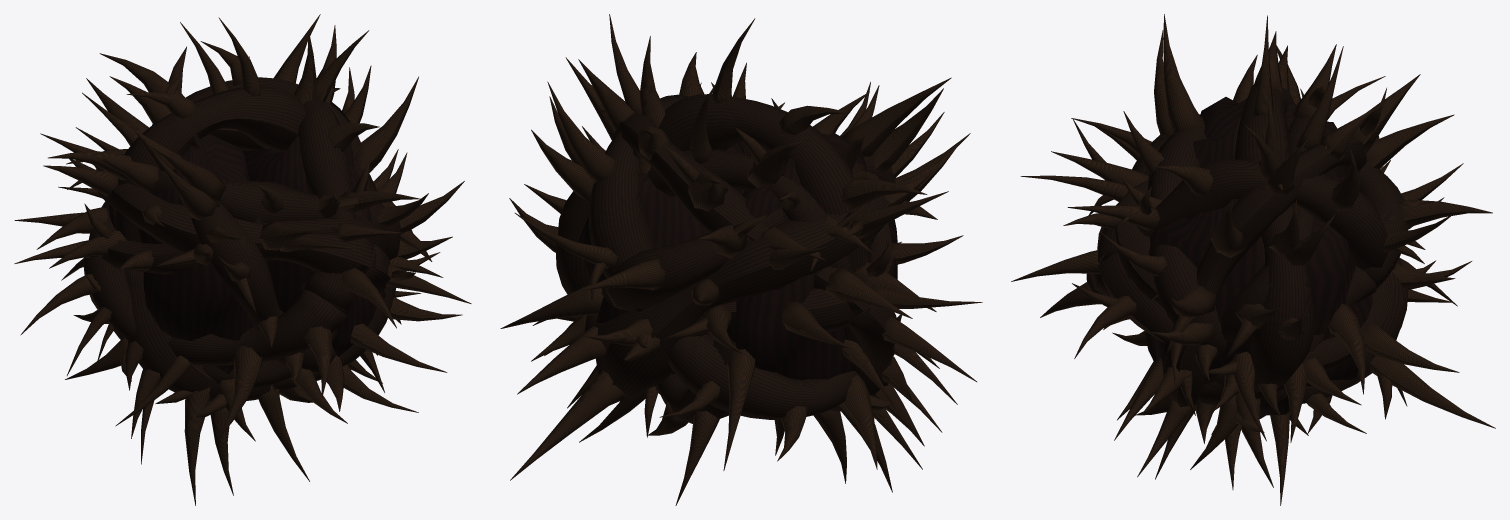
Rendered from Thorn_C_SplitCrown_Detail0.fbx.
3 views of the same model, side by side, from view 1: azimuth 30°, elevation 25°; view 2: azimuth 150°, elevation 25°; view 3: azimuth 270°, elevation 25° (orthographic). The views are drawn at different scales.
Parts seen in each view (by area): view 1: ThornSurface; view 2: ThornSurface; view 3: ThornSurface.
Boxes of the visible parts, x1,y1,x2,y2 form: ThornSurface: (14, 14, 471, 505); ThornSurface: (500, 14, 982, 505); ThornSurface: (1011, 14, 1495, 505).
Bounding box in the file's own units: 271 × 281 × 275.
